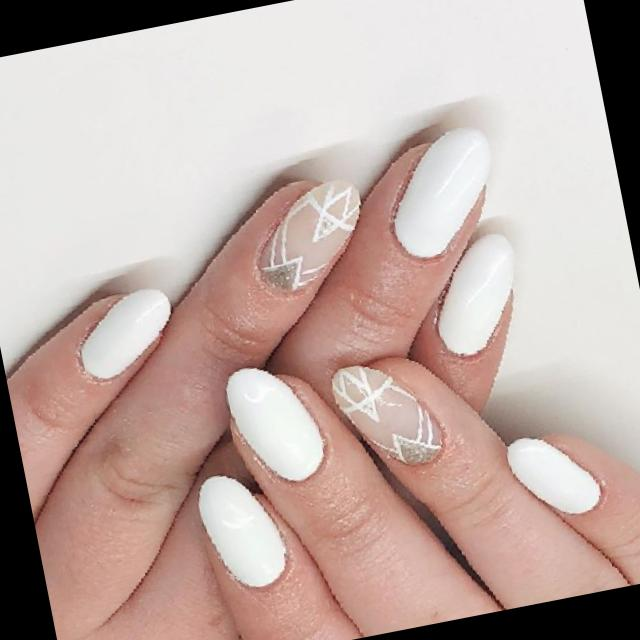Nail: (393, 129, 489, 257), (225, 369, 324, 481), (260, 182, 360, 290), (332, 365, 440, 464), (197, 475, 285, 587), (435, 234, 511, 355), (80, 288, 170, 379), (508, 439, 600, 513)
